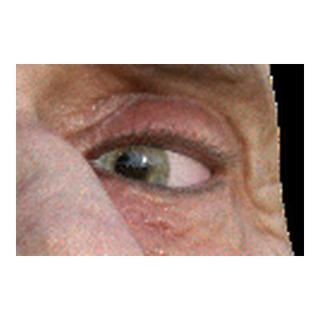pupil: (115, 153, 146, 184)
